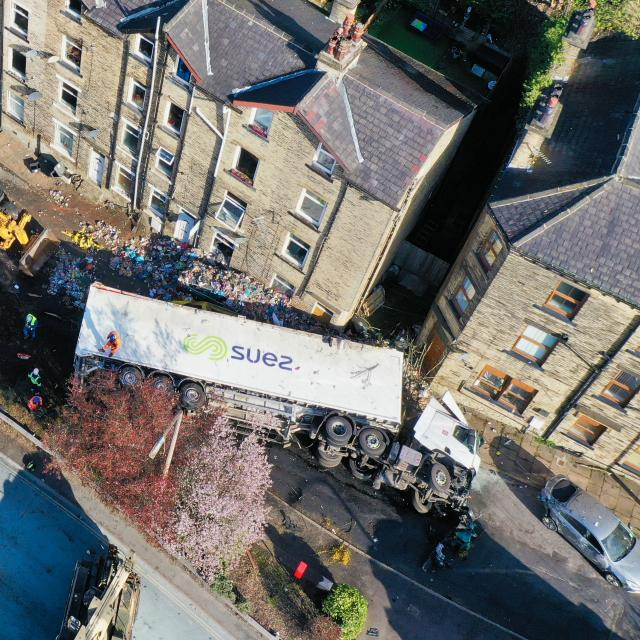traffic_incident: (81, 267, 481, 515)
